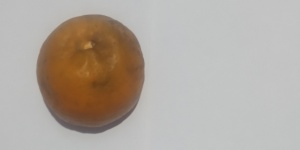BAD: (38, 14, 144, 127)
